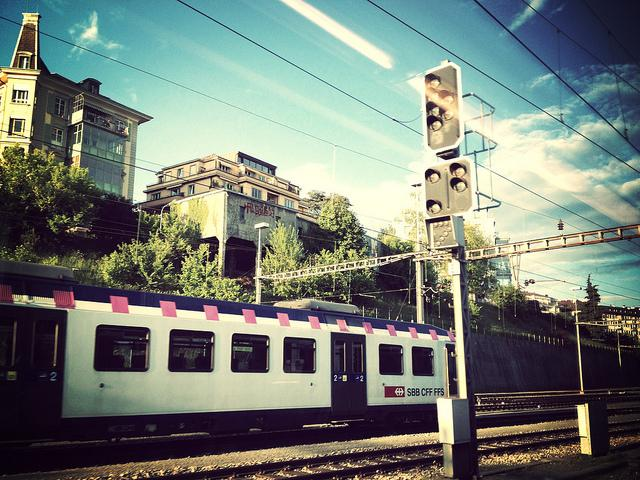Train: (8, 262, 457, 433)
